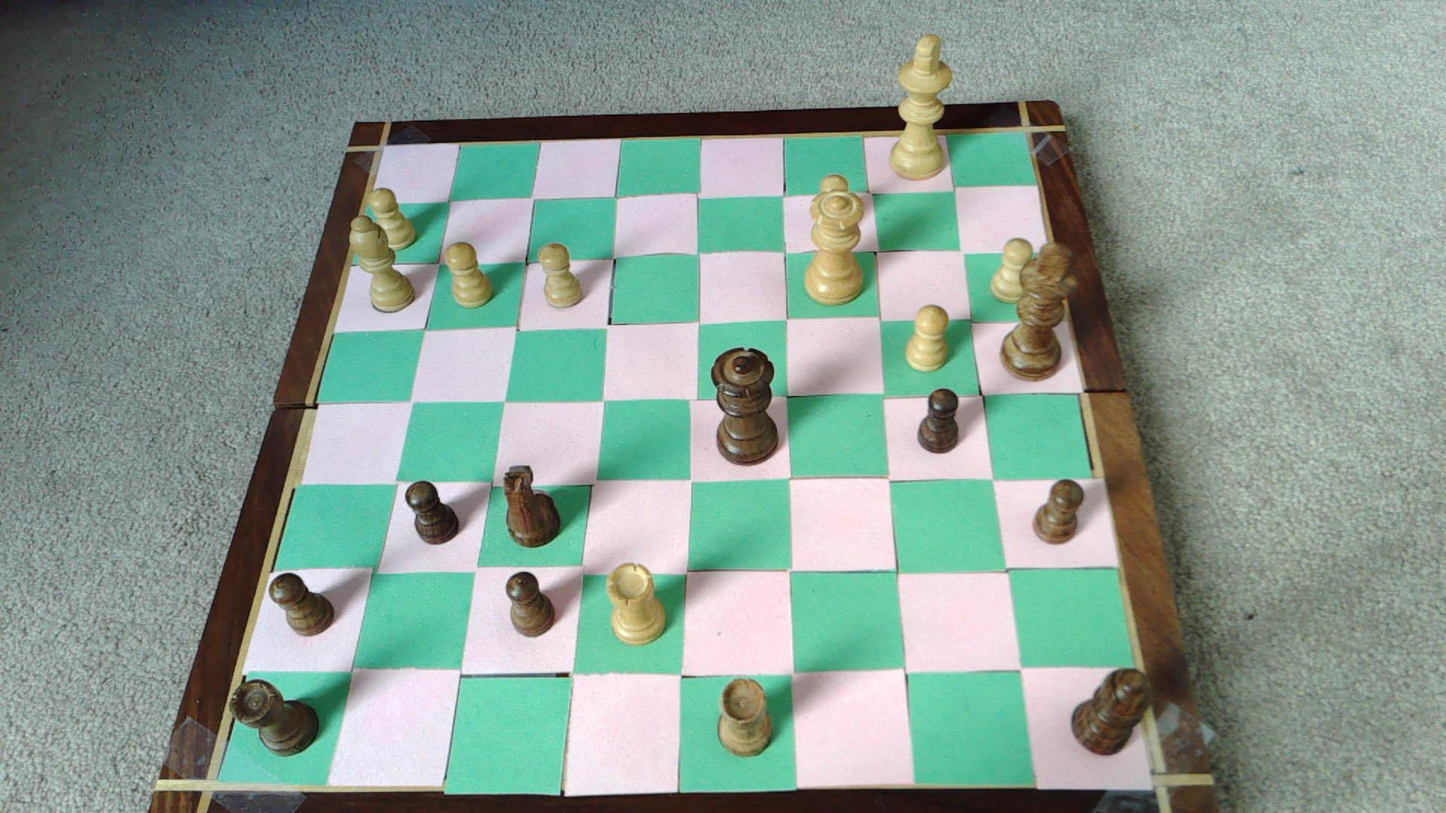dark_piece: (1001, 245, 1074, 380), (712, 347, 778, 463), (1071, 669, 1149, 753), (231, 679, 318, 754), (503, 465, 560, 547), (718, 676, 773, 755), (270, 572, 334, 635), (1032, 480, 1084, 543), (406, 481, 458, 543), (506, 572, 555, 636), (918, 388, 959, 452)
white_piece: (889, 33, 954, 180), (805, 195, 865, 304), (349, 213, 415, 312), (607, 562, 666, 644), (810, 175, 866, 235), (364, 188, 416, 250), (445, 242, 493, 306), (539, 242, 584, 307), (906, 304, 949, 371), (990, 238, 1032, 303)
